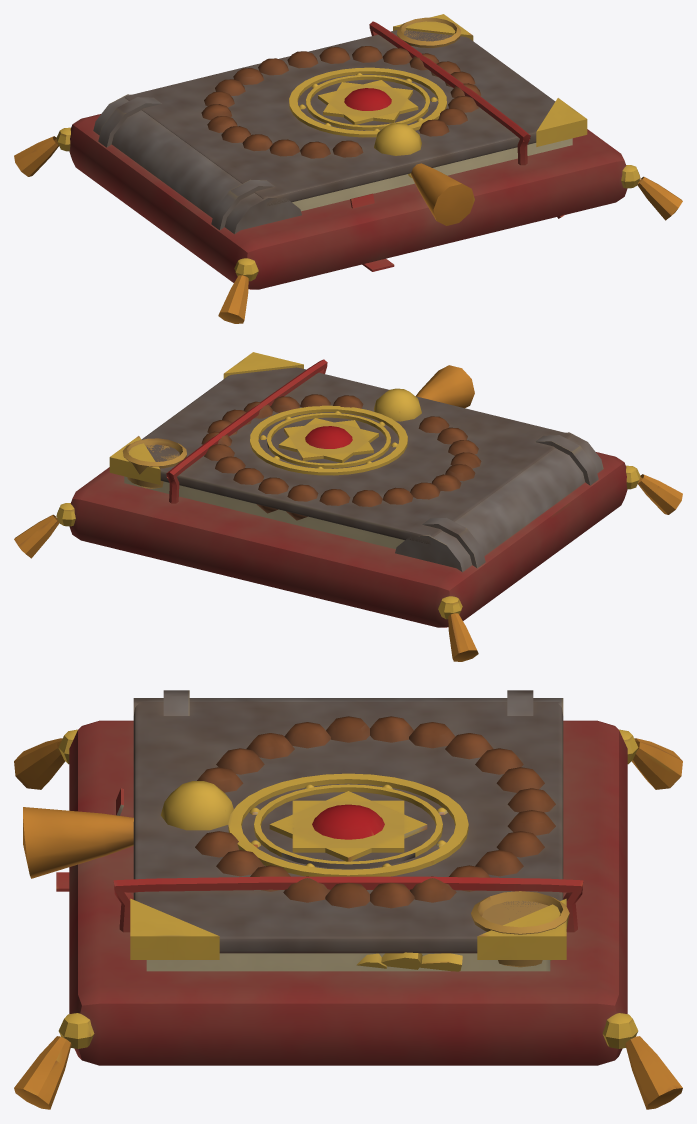
The model's file is PassStallItems.fbx.
3 renders of one model, top to bottom at view 1: azimuth 30°, elevation 25°; view 2: azimuth 150°, elevation 25°; view 3: azimuth 270°, elevation 25°, orthographic. The views are drawn at different scales.
Parts seen in each view (by area): view 1: PassGhostBook, PassPrayerBeads; view 2: PassGhostBook, PassPrayerBeads; view 3: PassPrayerBeads, PassGhostBook, PassSandals.
Part boxes in pixels (box(x1,y1,x2,y2)): PassGhostBook: box(93, 14, 587, 271); PassPrayerBeads: box(14, 17, 682, 323); PassGhostBook: box(109, 352, 603, 572); PassPrayerBeads: box(14, 365, 682, 661); PassPrayerBeads: box(14, 716, 682, 1109); PassGhostBook: box(56, 690, 583, 971); PassSandals: box(356, 952, 462, 971).
Bounding box in the file's own units: 52.89 × 11.87 × 43.6.
Materials: 3 (3 with a texture image).
